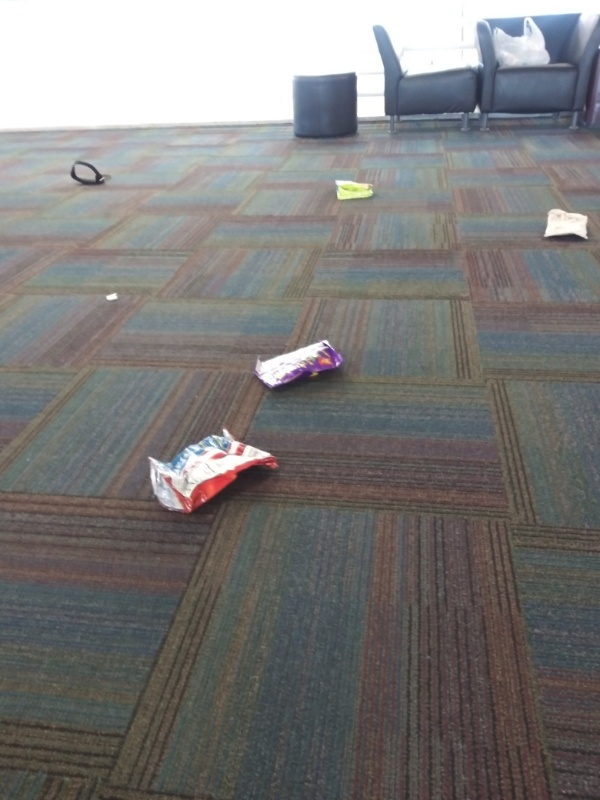bag: (143, 426, 281, 517), (252, 335, 346, 396), (542, 206, 590, 245), (332, 177, 380, 201)
